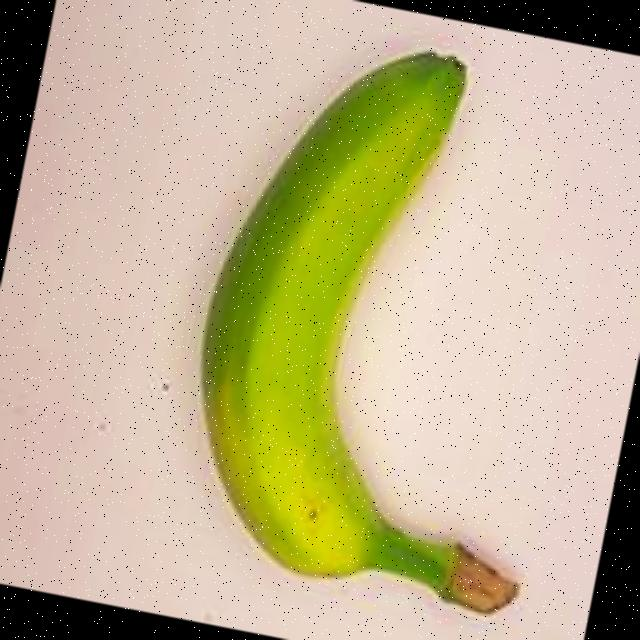Unripe: (137, 0, 630, 640)
